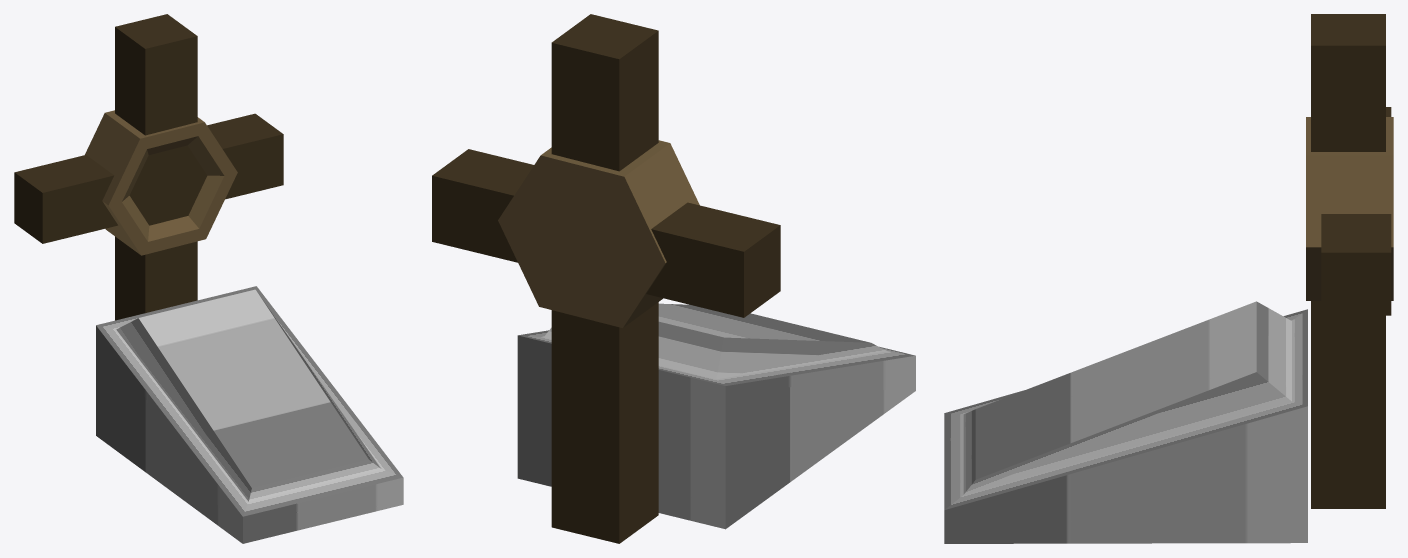
Rendered from CruzMaior_Lap.fbx.
3 renders of one model, left to right at view 1: azimuth 30°, elevation 25°; view 2: azimuth 150°, elevation 25°; view 3: azimuth 270°, elevation 25°, orthographic. The views are drawn at different scales.
Visible parts, largest first — view 1: CruzMaior&Lap; view 2: CruzMaior&Lap; view 3: CruzMaior&Lap.
Part boxes in pixels (x1,y1,x2,y2): CruzMaior&Lap: (14, 14, 403, 543); CruzMaior&Lap: (432, 14, 915, 543); CruzMaior&Lap: (944, 14, 1393, 543).
Bounding box in the file's own units: 119 × 177 × 156.
